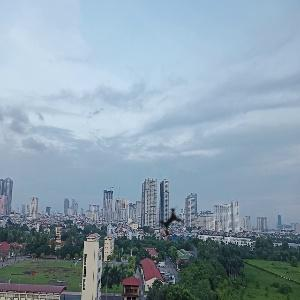drone: (142, 194, 203, 255)
